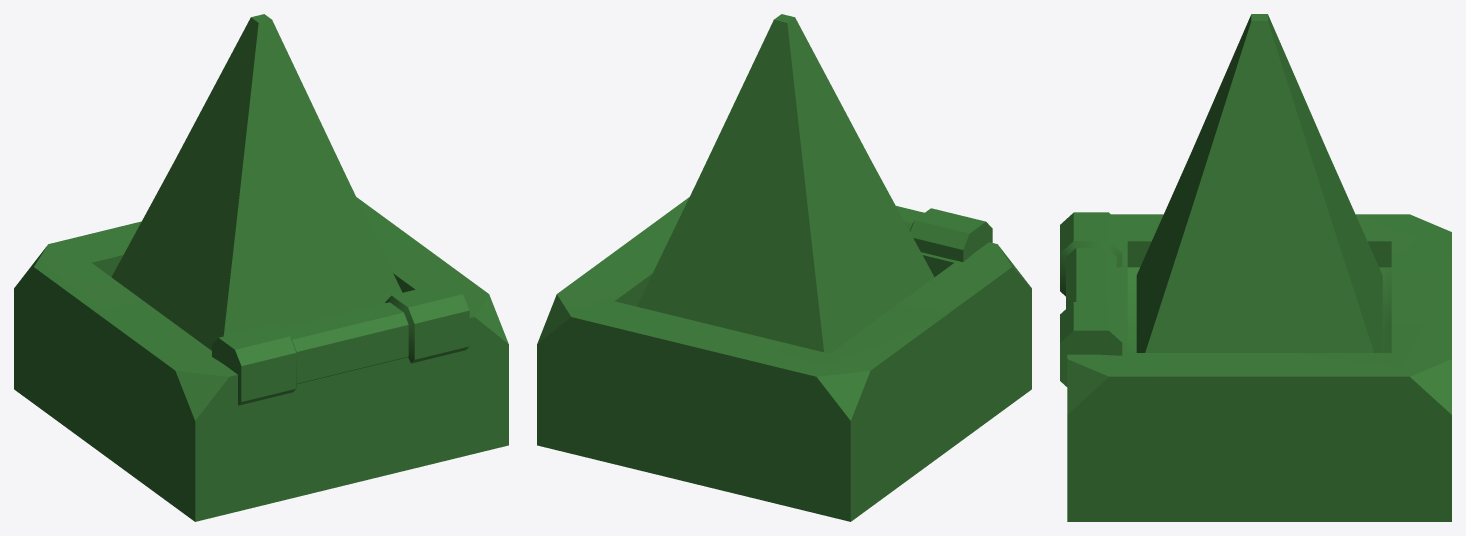
Rendered from OBJ_Trigger_B.FBX.
The picture shows the model from 3 angles, left to right: view 1: azimuth 30°, elevation 25°; view 2: azimuth 150°, elevation 25°; view 3: azimuth 270°, elevation 25°; orthographic projection. The views are drawn at different scales.
Visible parts, largest first — view 1: OBJ_Trigger_B_01, OBJ_Trigger_B_02; view 2: OBJ_Trigger_B_01, OBJ_Trigger_B_02; view 3: OBJ_Trigger_B_01, OBJ_Trigger_B_02.
Boxes of the visible parts, x1,y1,x2,y2 form: OBJ_Trigger_B_01: (14, 197, 508, 521); OBJ_Trigger_B_02: (111, 14, 402, 350); OBJ_Trigger_B_01: (537, 197, 1031, 521); OBJ_Trigger_B_02: (637, 14, 934, 353); OBJ_Trigger_B_01: (1060, 212, 1451, 521); OBJ_Trigger_B_02: (1136, 14, 1382, 352).
Size of the model in its own units: 6 by 7.29 by 6.11.
